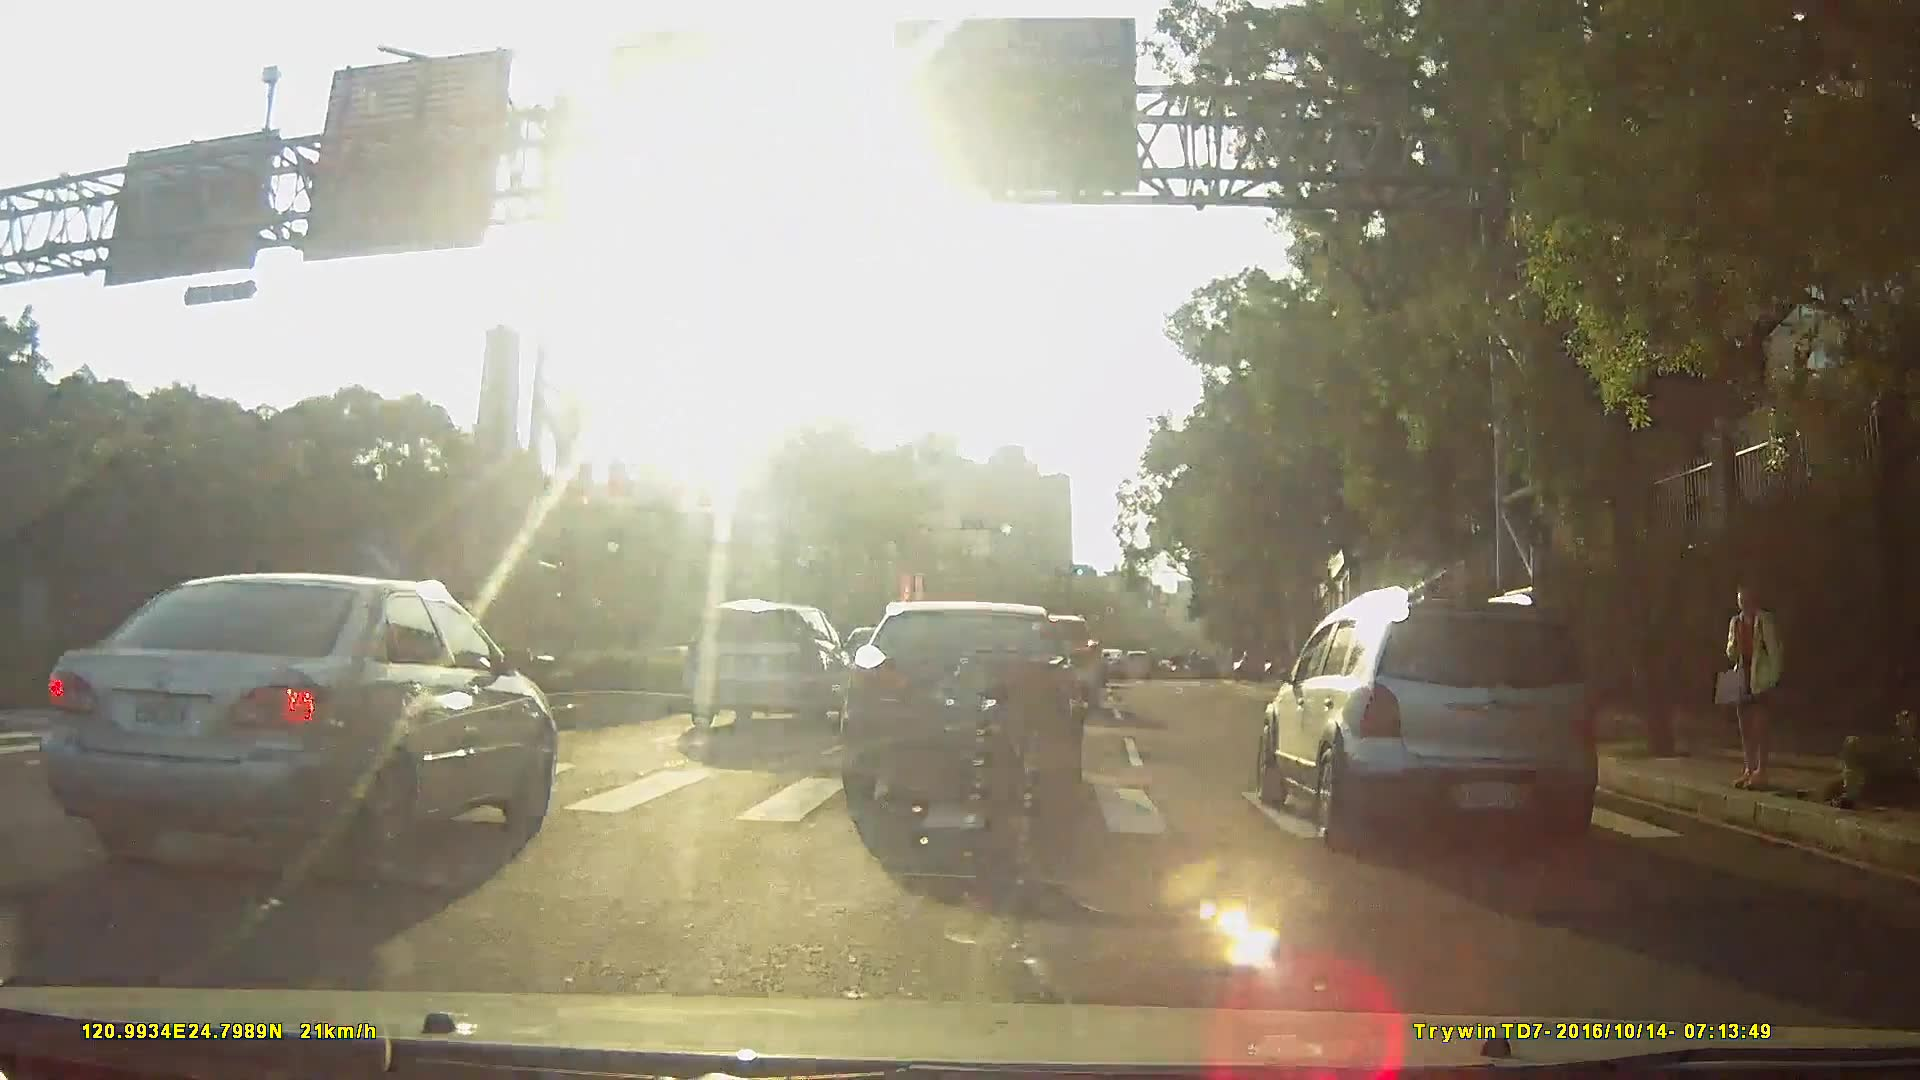pedestrian: (1718, 581, 1789, 797)
vehicle: (11, 562, 563, 885), (1236, 573, 1626, 856), (845, 593, 1104, 805), (672, 595, 852, 726), (1089, 642, 1123, 675), (1115, 642, 1149, 672)
